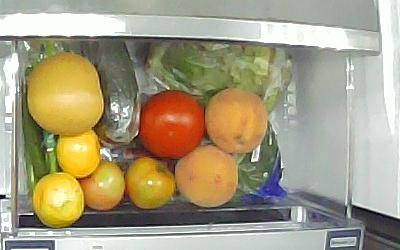peach: (203, 86, 267, 153), (173, 143, 238, 207)
pear: (25, 51, 104, 135)
tangerine: (31, 170, 84, 227), (54, 128, 100, 178)
tomato: (136, 88, 205, 159), (124, 155, 176, 209), (78, 159, 125, 210)
